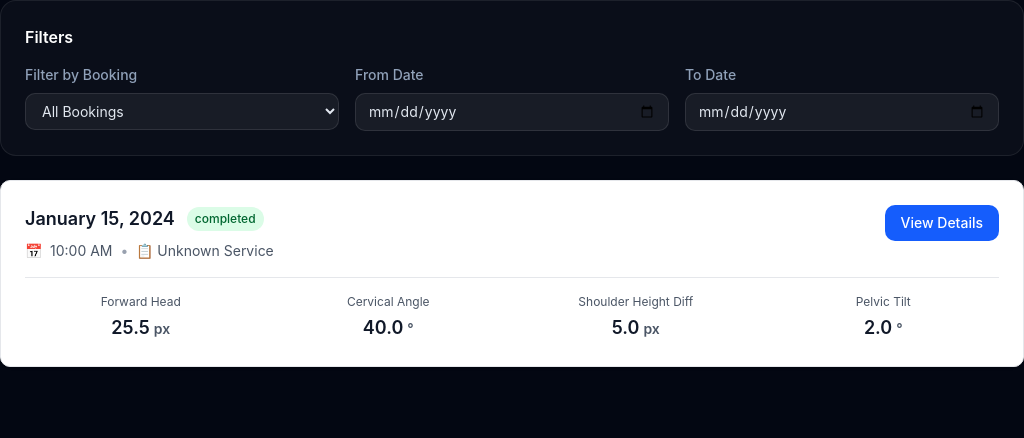
AssessmentHistory › Filtering › should show clear filters button when filters are active
Check: the text "Clear Filters" is not shown
// Apply a filter
Type "2024-01-01" into the date field labelled "From Date". click: (512, 112)
box: [355,93,669,131]
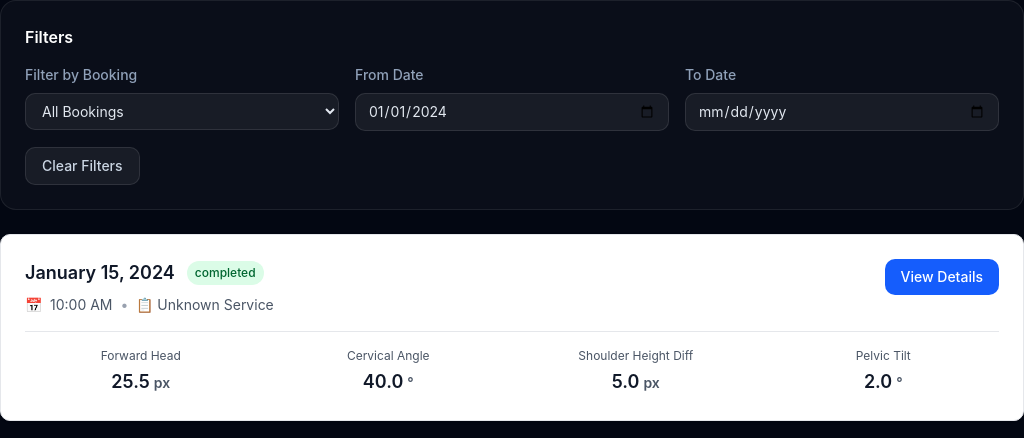
Check: the button "Clear Filters" is shown, box [25,147,140,185]
